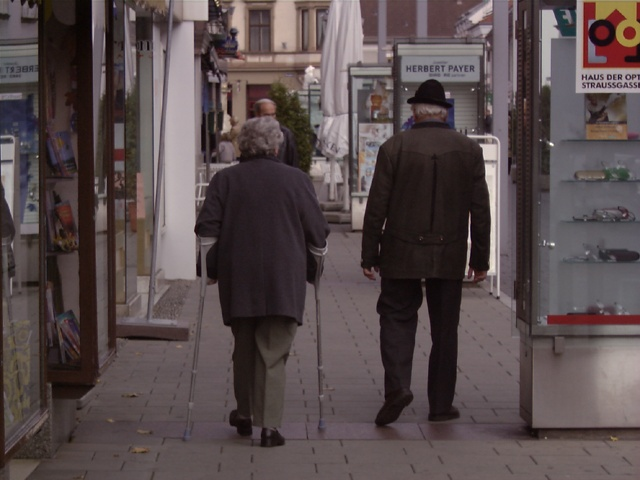person: (356, 72, 490, 425), (190, 116, 326, 447)
